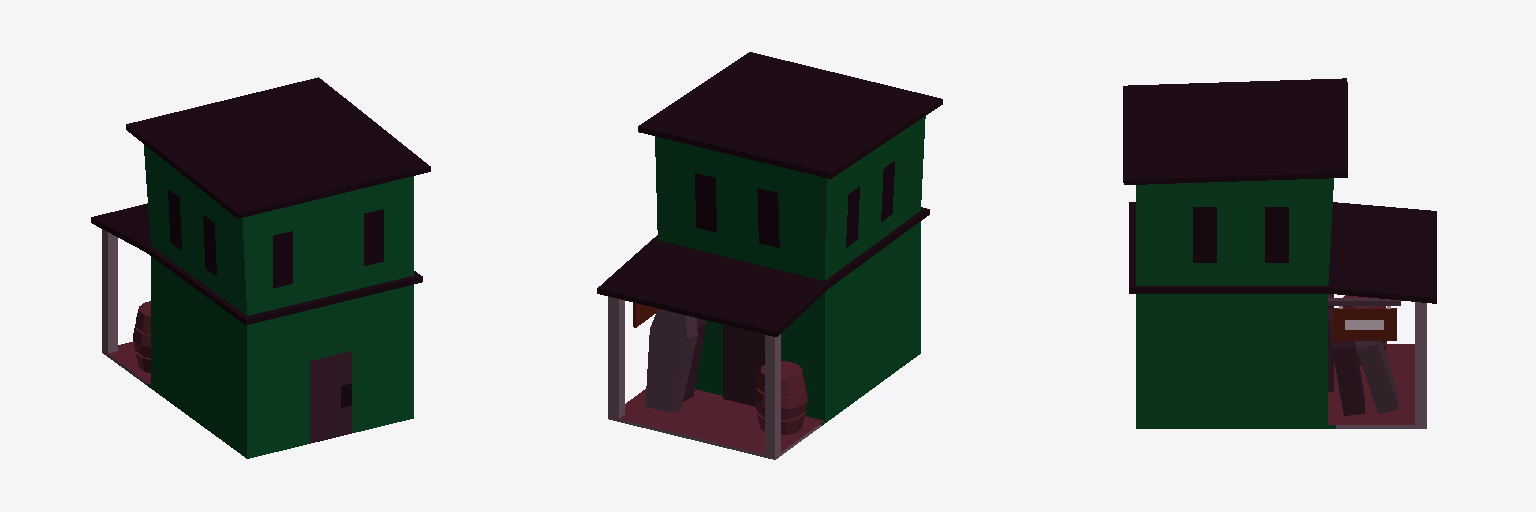
3 renders of one model, left to right at view 1: azimuth 30°, elevation 25°; view 2: azimuth 150°, elevation 25°; view 3: azimuth 270°, elevation 25°, orthographic.
Parts seen in each view (by area): view 1: building, beams, barrel; view 2: building, coffin, beams, front door, barrel; view 3: building, coffin, sign_panel, beams, sign_beam.
Boxes of the visible parts, box(x1,y1,x2,y2) form: building: box(91, 77, 430, 458); beams: box(102, 229, 117, 352); barrel: box(133, 301, 150, 372); building: box(597, 52, 942, 459); coffin: box(645, 309, 705, 412); beams: box(608, 296, 780, 456); front door: box(723, 325, 764, 406); barrel: box(755, 361, 807, 434); building: box(1123, 78, 1436, 428); coffin: box(1328, 306, 1398, 415); sign_panel: box(1333, 308, 1396, 340); beams: box(1415, 302, 1426, 425); sign_beam: box(1328, 298, 1400, 305).
Size of the model in its own units: 1.16 by 1.5 by 1.63.
Materials: 1 (1 with a texture image).